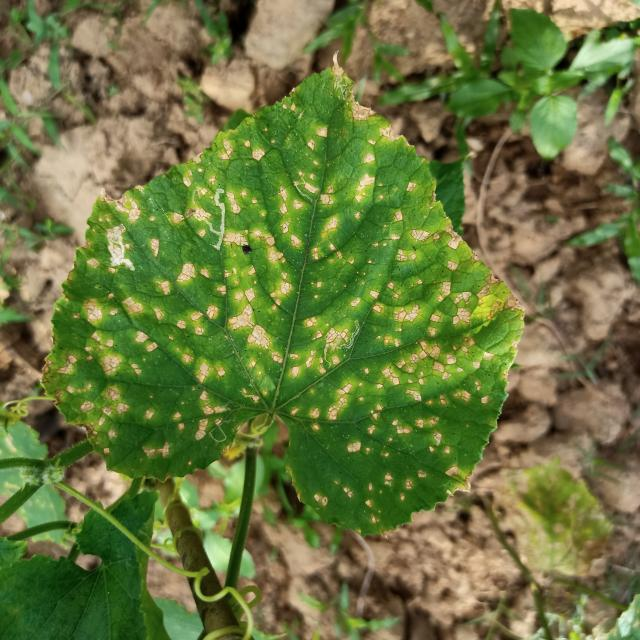disease_cucumber: (69, 105, 508, 517)
